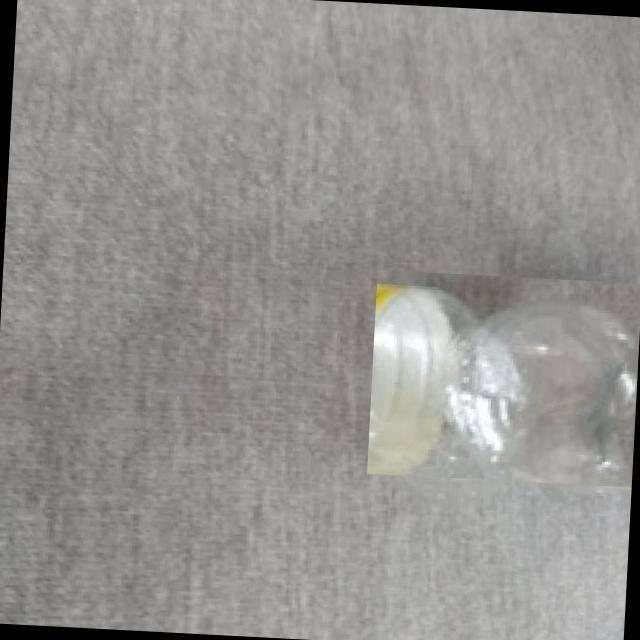good: (366, 269, 640, 487)
